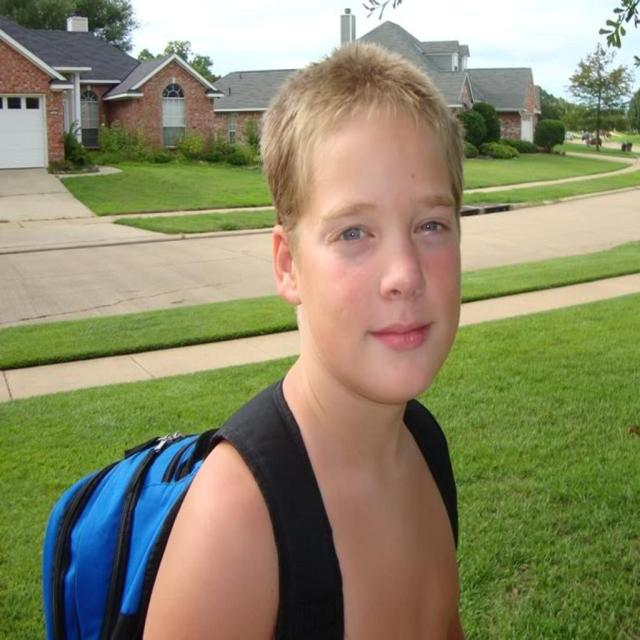Face: (285, 89, 486, 416)
